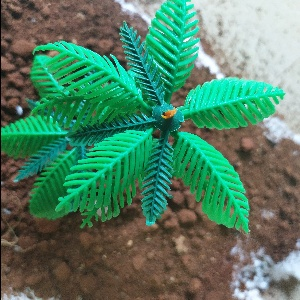plant: (1, 1, 288, 237)
